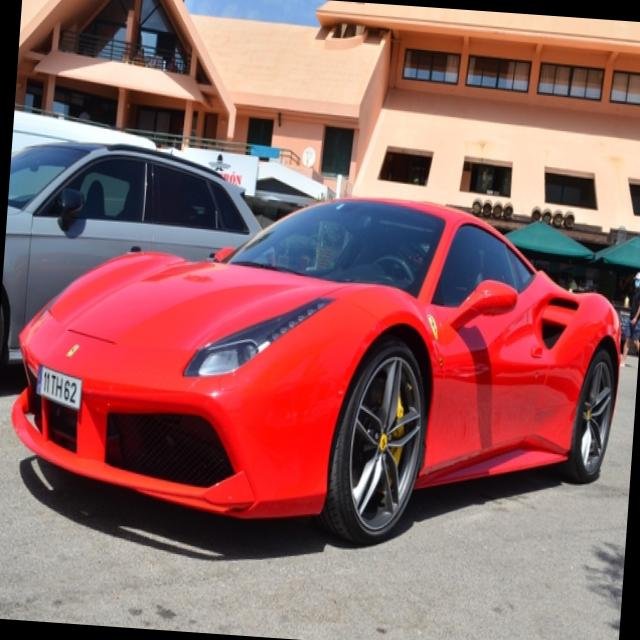portuguese-license-plates: (34, 361, 83, 412)
